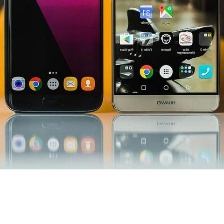phone: (108, 0, 223, 119), (111, 108, 221, 223), (0, 0, 108, 115), (0, 113, 108, 223)
